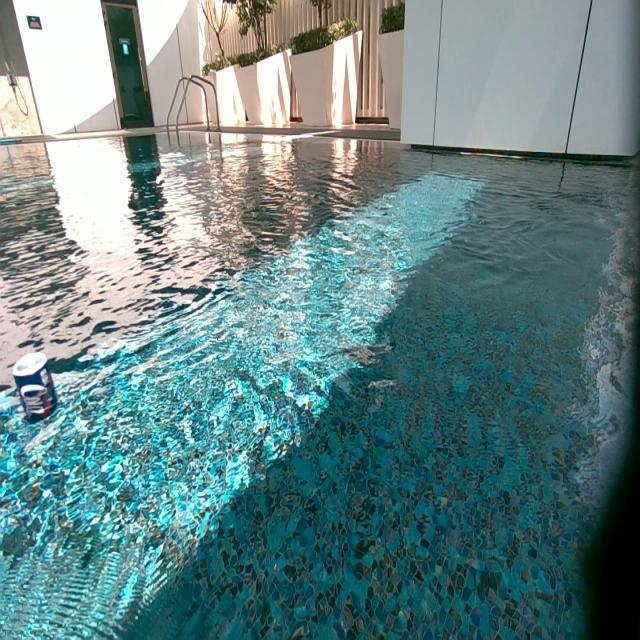Cans: (11, 348, 53, 401)
